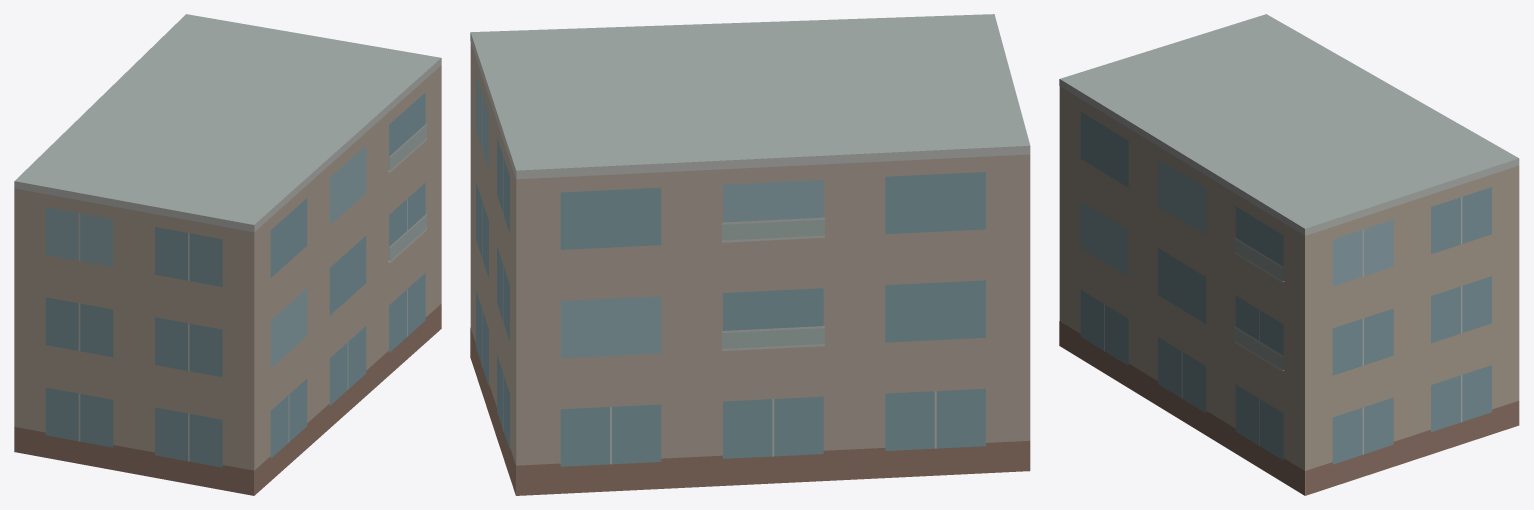
Rendered from survey-upis-32489941.glb.
3 renders of one model, left to right at view 1: azimuth 30°, elevation 25°; view 2: azimuth 150°, elevation 25°; view 3: azimuth 270°, elevation 25°, orthographic. The views are drawn at different scales.
Parts seen in each view (by area): view 1: survey-upis-32489941.tmp; view 2: survey-upis-32489941.tmp; view 3: survey-upis-32489941.tmp.
Boxes of the visible parts, x1,y1,x2,y2 form: survey-upis-32489941.tmp: [14, 14, 441, 495]; survey-upis-32489941.tmp: [470, 14, 1030, 495]; survey-upis-32489941.tmp: [1059, 14, 1519, 495].
Size of the model in its own units: 15.8 by 9.15 by 14.29.
